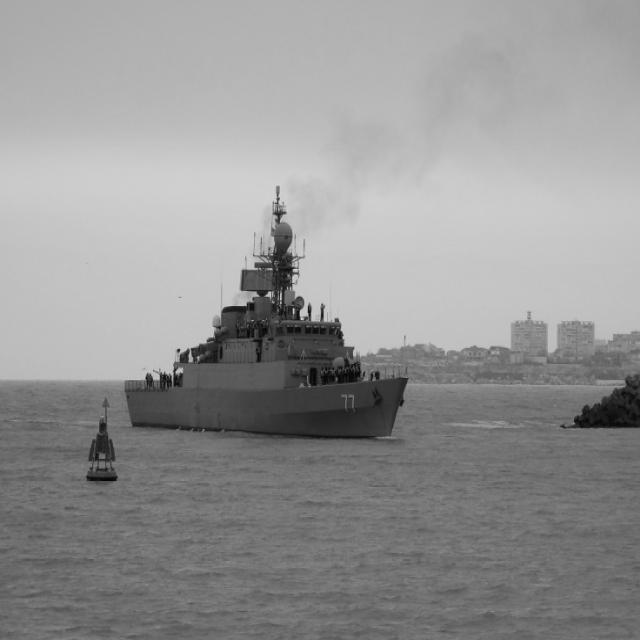Fragata: (122, 176, 410, 445)
